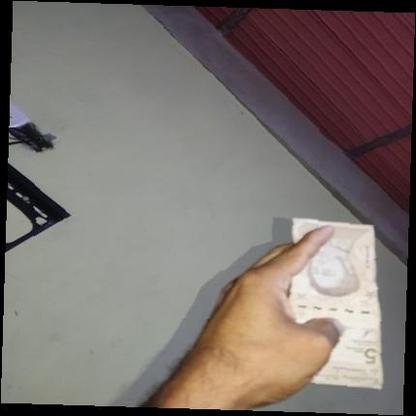vef_front: (287, 216, 383, 388)
